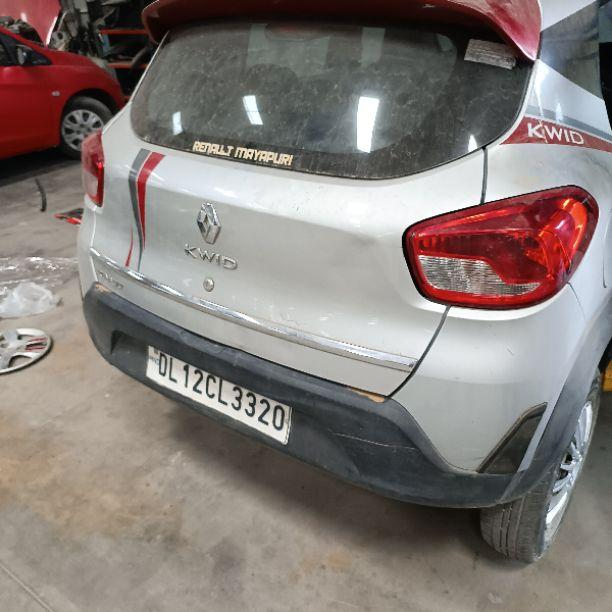license_plate: (144, 344, 293, 446)
